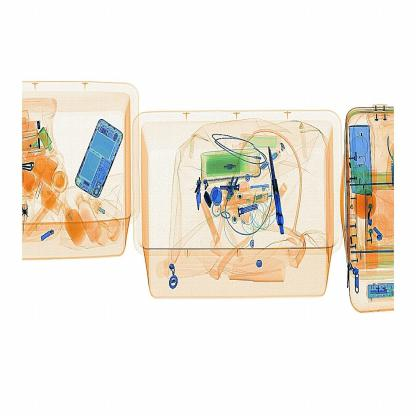gun: (262, 132, 297, 233)
